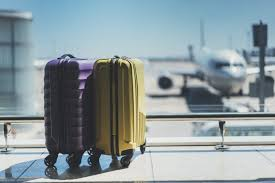suitcase: (90, 54, 149, 170), (42, 55, 96, 168)
